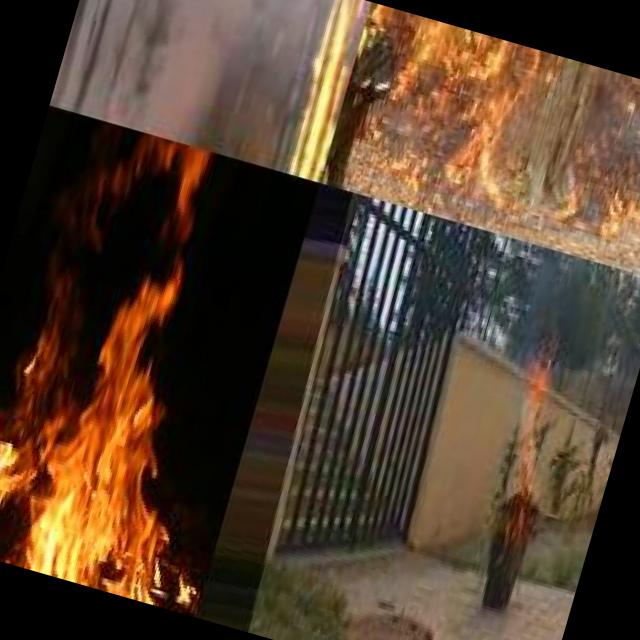fire: (0, 105, 305, 613), (324, 2, 640, 263), (475, 350, 575, 542), (271, 0, 371, 182)
smoke: (165, 0, 322, 168), (0, 0, 143, 138)
